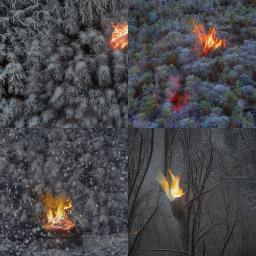Small fire: (190, 17, 237, 63), (157, 165, 189, 211), (44, 193, 80, 231), (107, 18, 131, 55), (167, 81, 190, 116)
